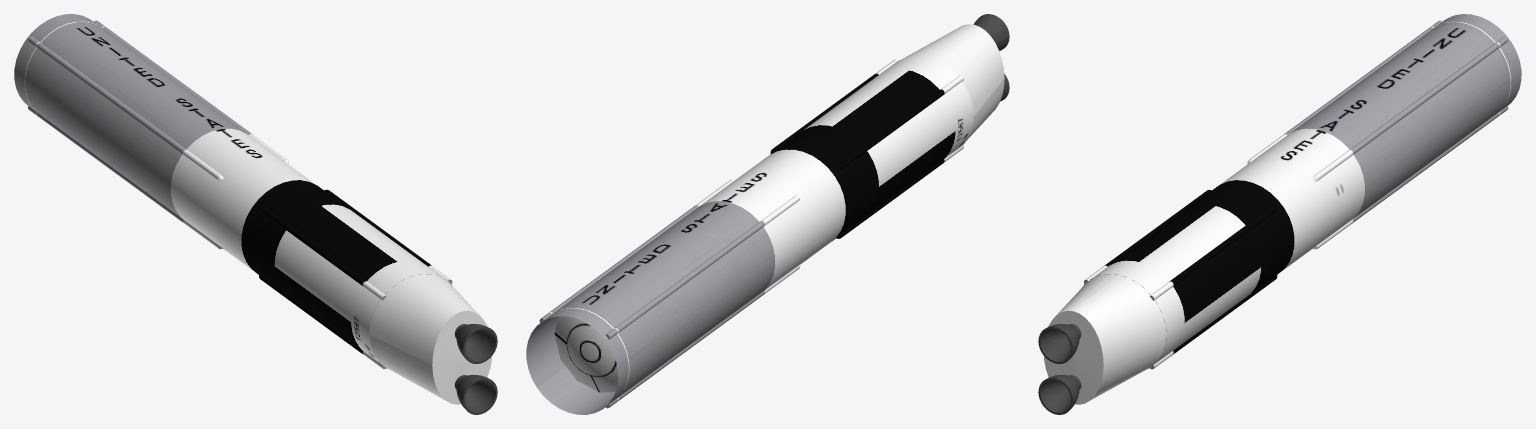
File: titan34_stage1.obj
The picture shows the model from 3 angles, left to right: view 1: azimuth 30°, elevation 25°; view 2: azimuth 150°, elevation 25°; view 3: azimuth 330°, elevation 25°; orthographic projection.
Visible parts, largest first — view 1: group2, group3, group1, group4, group5; view 2: group2, group1, group3, group0, group4; view 3: group2, group3, group1, group4, group5.
Boxes of the visible parts, x1,y1,x2,y2 form: group2: [14, 14, 452, 368]; group3: [369, 274, 491, 404]; group1: [28, 20, 452, 369]; group4: [454, 324, 497, 363]; group5: [454, 374, 497, 414]; group2: [526, 56, 973, 414]; group1: [539, 59, 964, 408]; group3: [903, 24, 1004, 140]; group0: [554, 316, 618, 392]; group4: [973, 14, 1009, 50]; group2: [1083, 14, 1521, 368]; group3: [1044, 274, 1166, 404]; group1: [1084, 20, 1508, 369]; group4: [1038, 324, 1081, 363]; group5: [1038, 375, 1081, 414].
Size of the model in its own units: 3.04 by 3.04 by 23.97.
4 materials, 3 textured.
